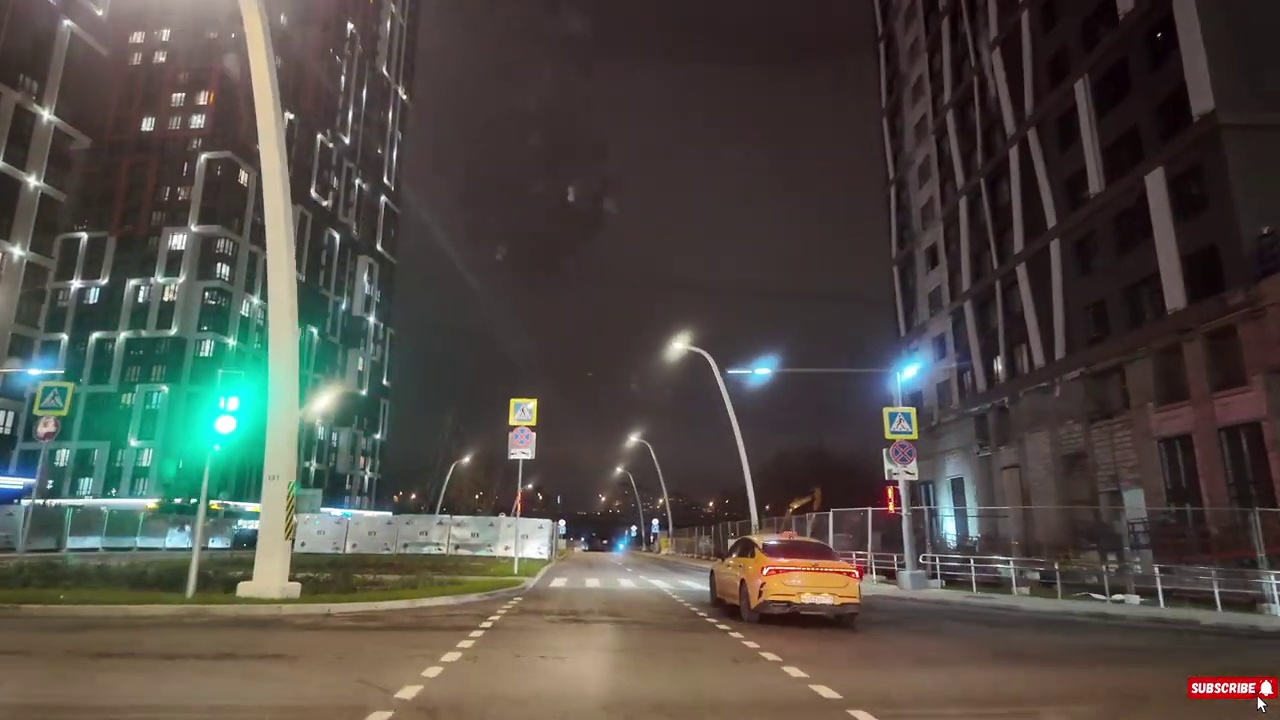acesa: (658, 328, 697, 370), (308, 381, 346, 419)
